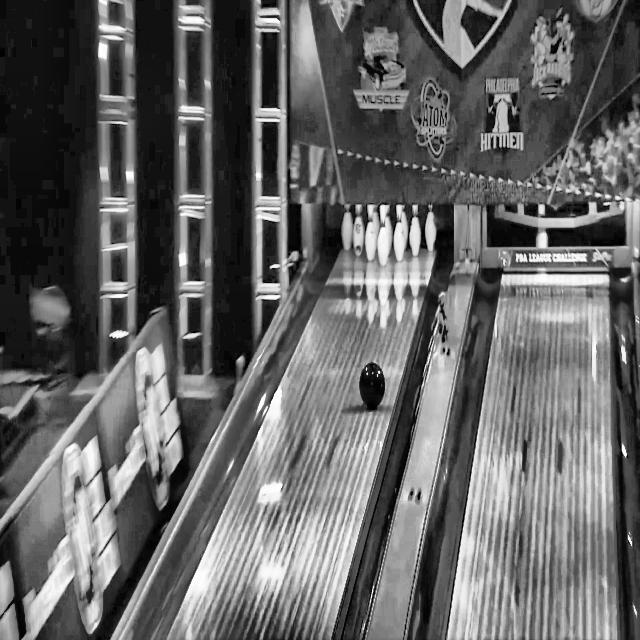bowling-ball: (360, 362, 385, 409)
